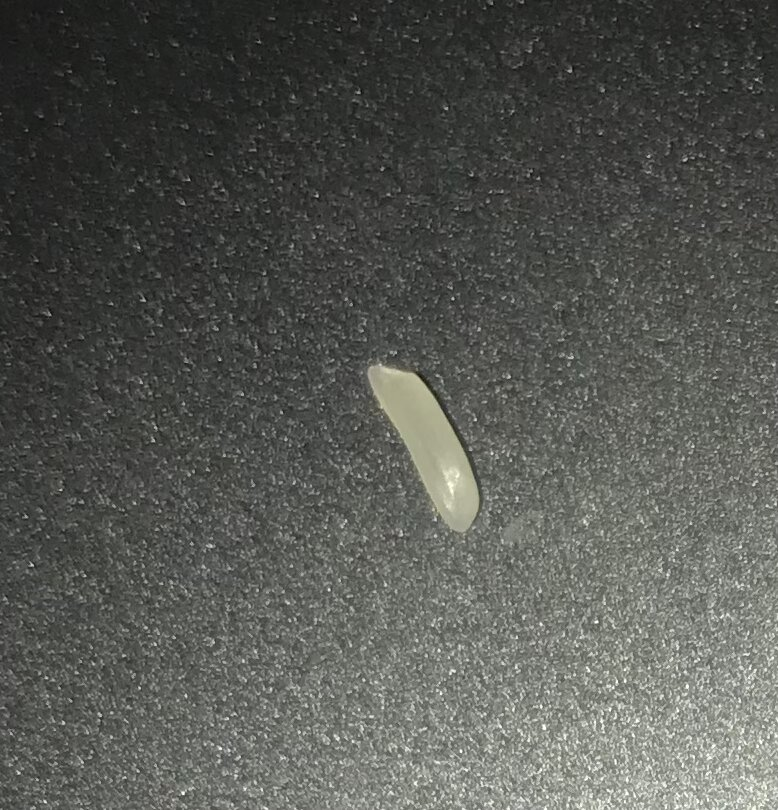Gao Long Lai: (365, 355, 501, 543)
